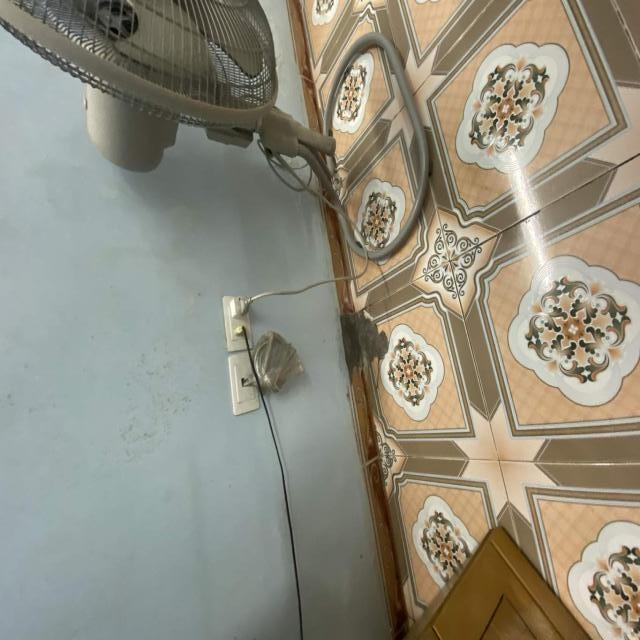outlet: (228, 352, 260, 416), (222, 295, 253, 353)
